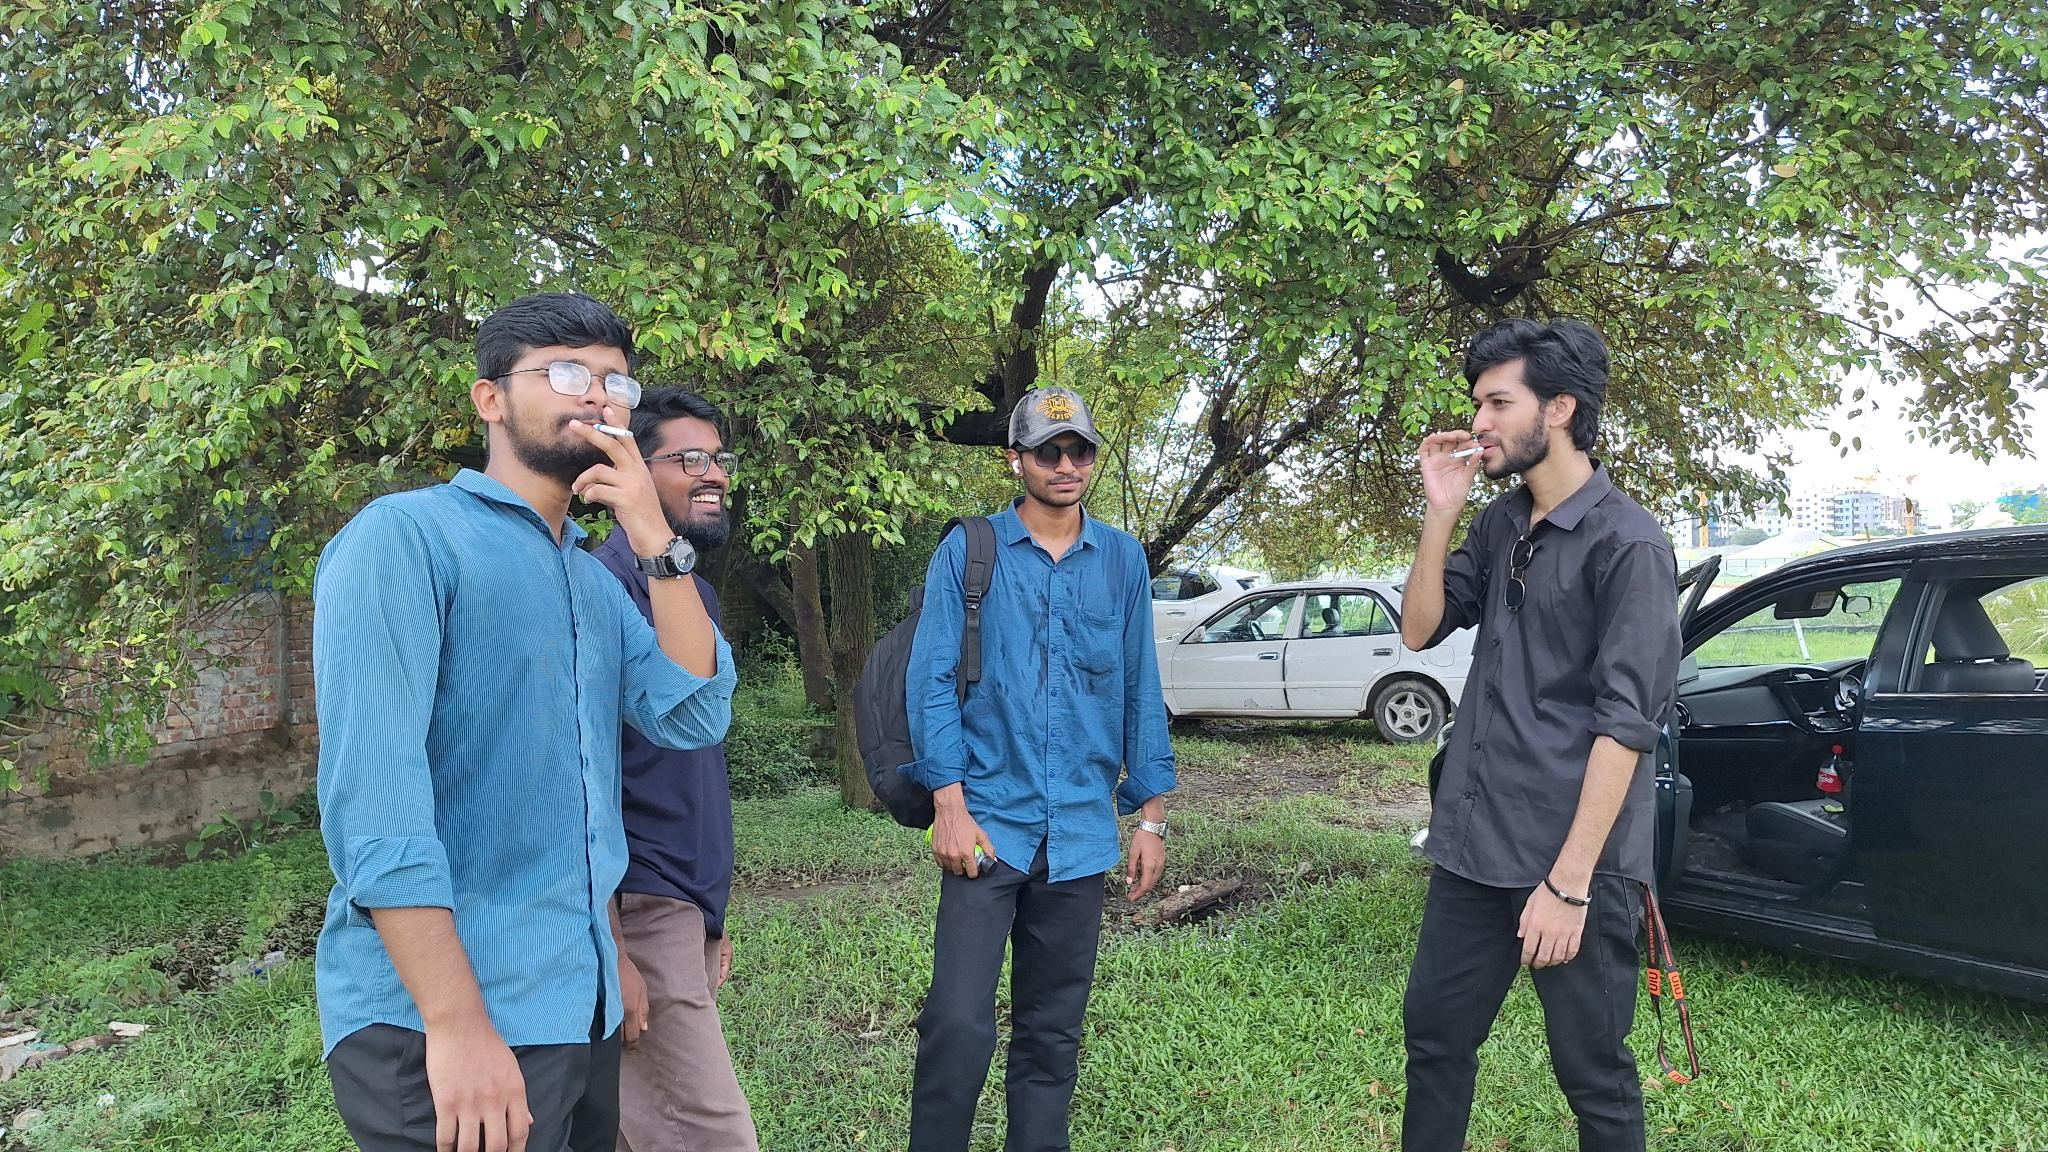cigarette: (592, 422, 637, 442), (1446, 444, 1485, 461)
nonSmoker: (851, 388, 1175, 1152)
smoker: (312, 288, 731, 1152), (1398, 312, 1688, 1152)
